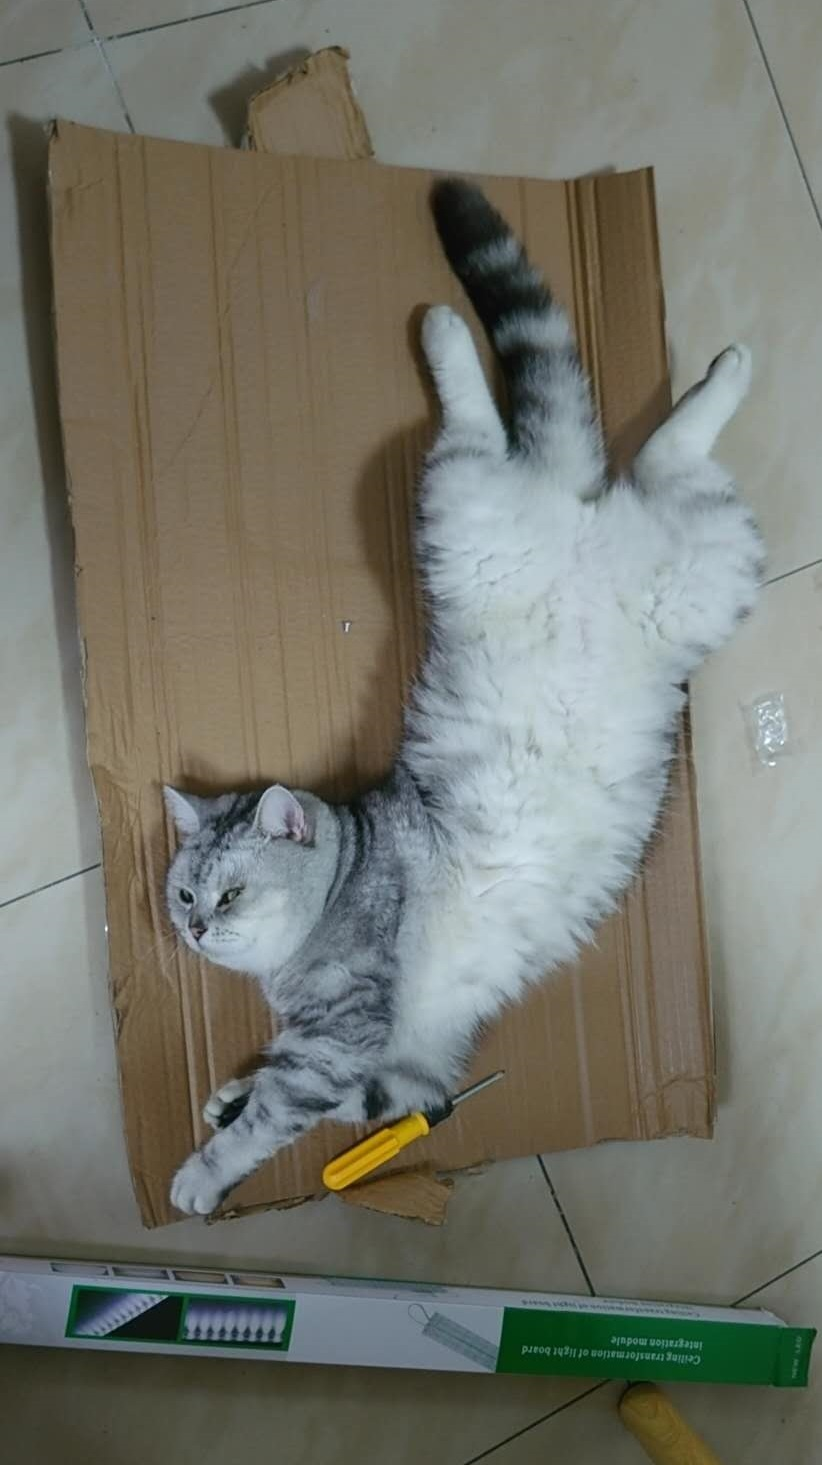box: (3, 1252, 809, 1392)
cat: (158, 188, 769, 1220)
screwdriver: (316, 1061, 514, 1196)
